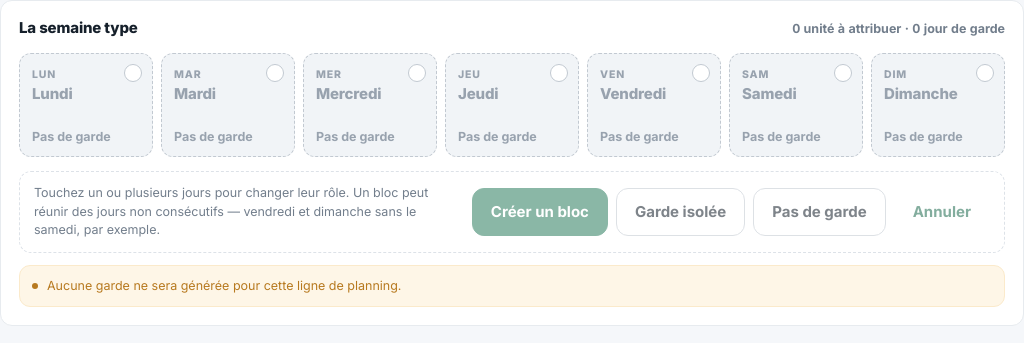
it: WeekStructureEditor › zone d’actions stable (aucun saut de mise en page) › plusieurs jours contigus puis non contigus : résumé mis à jour, structure inchangée
Click the button "Lun Lundi Pas de garde" at (86, 105), box top-left (19, 53), bottom-right (153, 157)
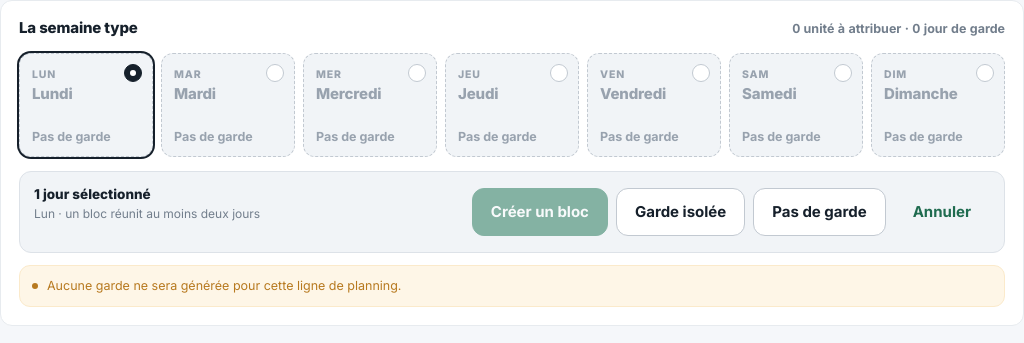
Click the button "Mar Mardi Pas de garde" at (228, 105), box top-left (161, 53), bottom-right (295, 157)
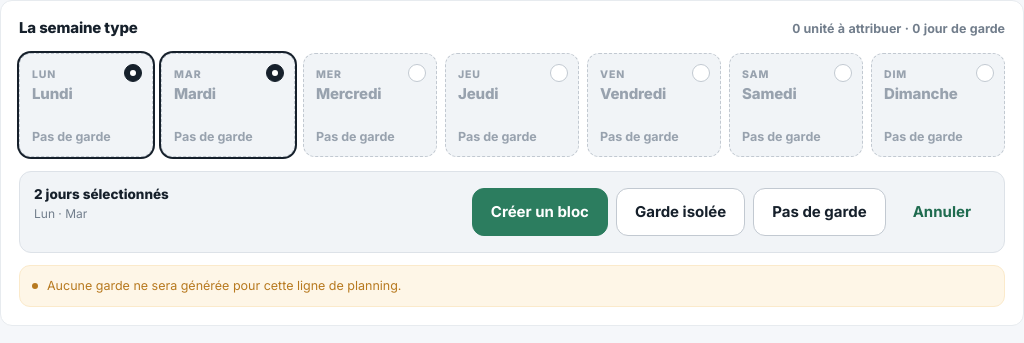
Result: the element with class "wse__sel-summary" shows "2 jours sélectionnés" at top-left (34, 186), bottom-right (169, 202)
Result: the element with class "wse__sel-summary" shows "Lun · Mar" at top-left (34, 206), bottom-right (87, 221)
Click the button "Jeu Jeudi Pas de garde" at (512, 105), box top-left (445, 53), bottom-right (579, 157)
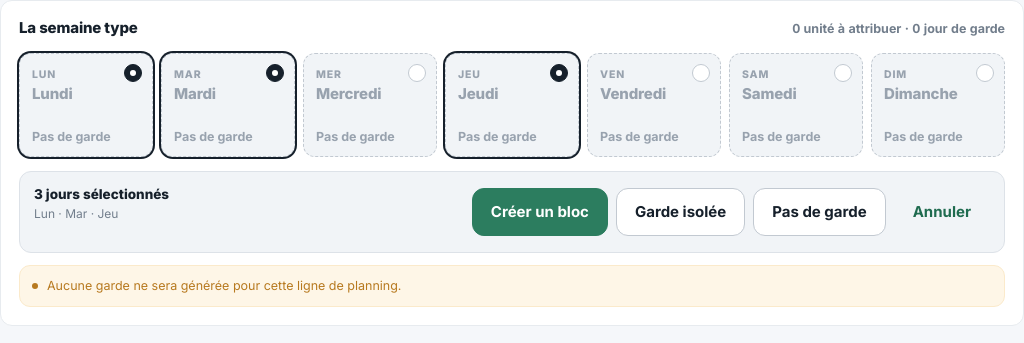
Result: the button "Créer un bloc" is enabled at top-left (472, 188), bottom-right (608, 236)
Result: the element with class "wse__sel-summary" shows "3 jours sélectionnés" at top-left (34, 186), bottom-right (169, 202)
Result: the element with class "wse__sel-summary" shows "Lun · Mar · Jeu" at top-left (34, 206), bottom-right (118, 221)
Click the button "Mar Mardi Pas de garde" at (228, 105), box top-left (161, 53), bottom-right (295, 157)
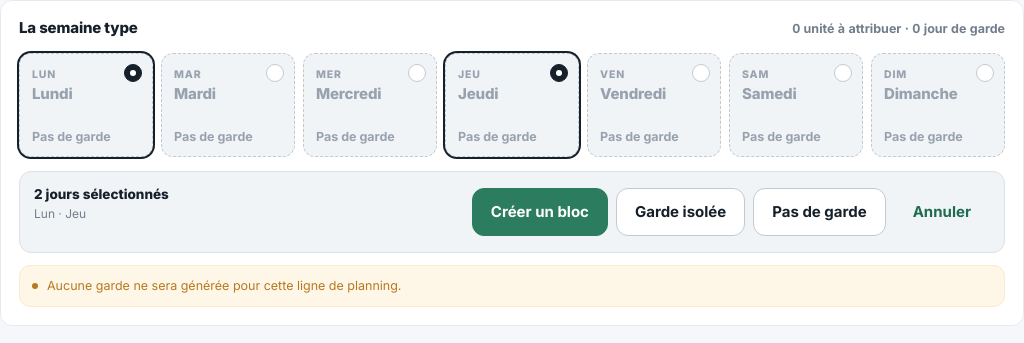
Result: the element with class "wse__sel-summary" shows "Lun · Jeu" at top-left (34, 206), bottom-right (86, 221)
